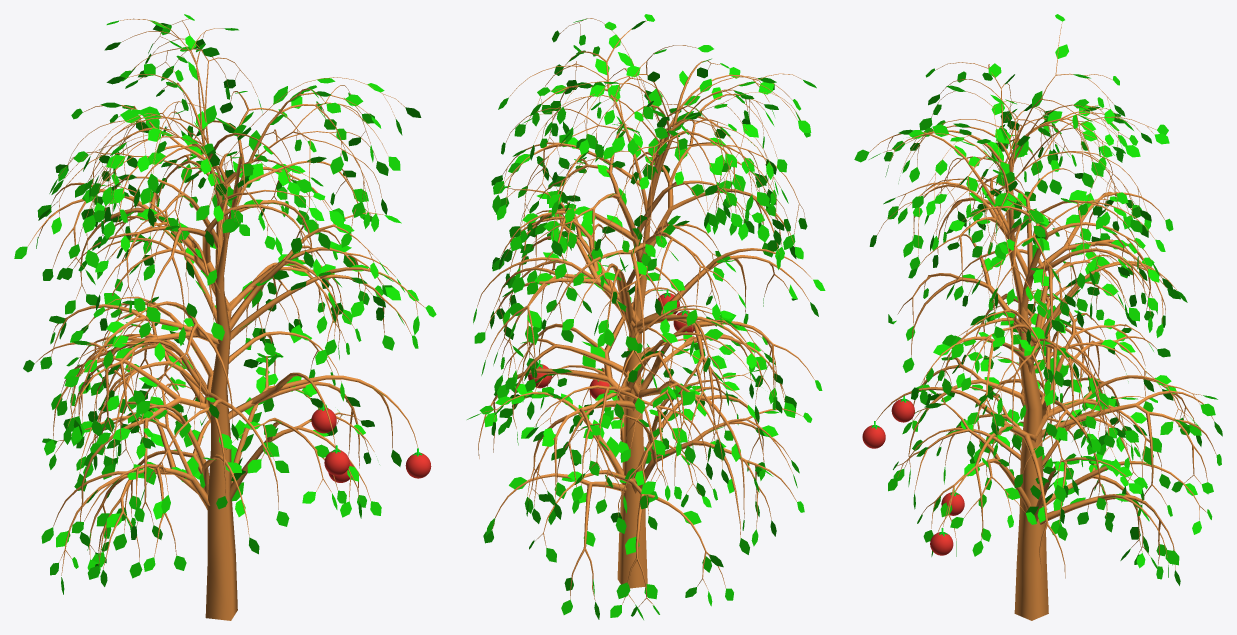
File: apple_tree.dae
3 views of the same model, side by side, from view 1: azimuth 30°, elevation 25°; view 2: azimuth 150°, elevation 25°; view 3: azimuth 270°, elevation 25° (orthographic). The views are drawn at different scales.
Visible parts, largest first — view 1: apple_tree; view 2: apple_tree; view 3: apple_tree.
Boxes of the visible parts, <box> form: apple_tree: <box>14,14,436,620</box>; apple_tree: <box>467,14,825,619</box>; apple_tree: <box>854,14,1222,620</box>.
Size of the model in its own units: 1.97 by 1.99 by 3.32.
